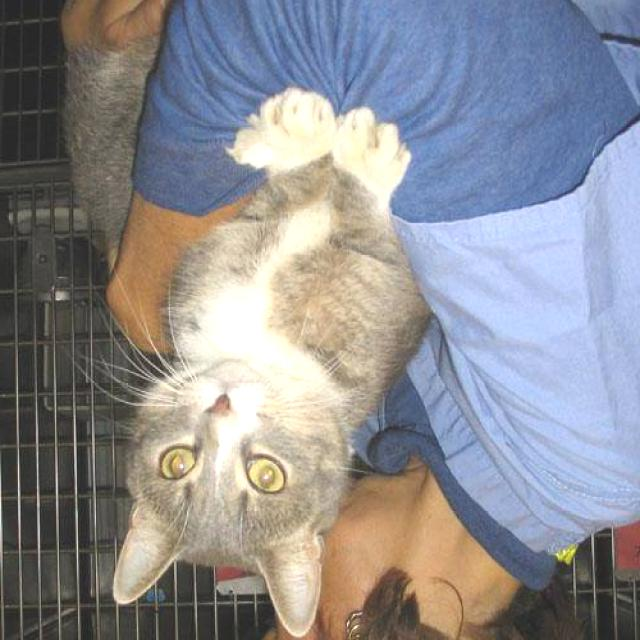Kucing: (114, 208, 342, 632)
